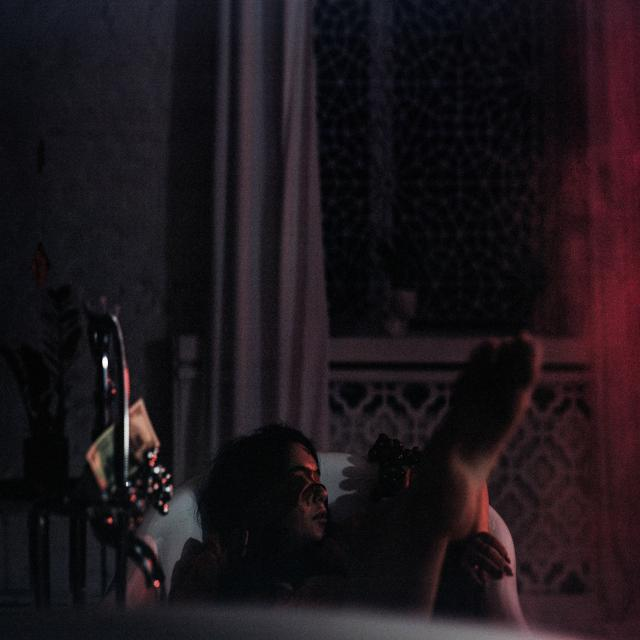adult: (198, 332, 540, 628)
